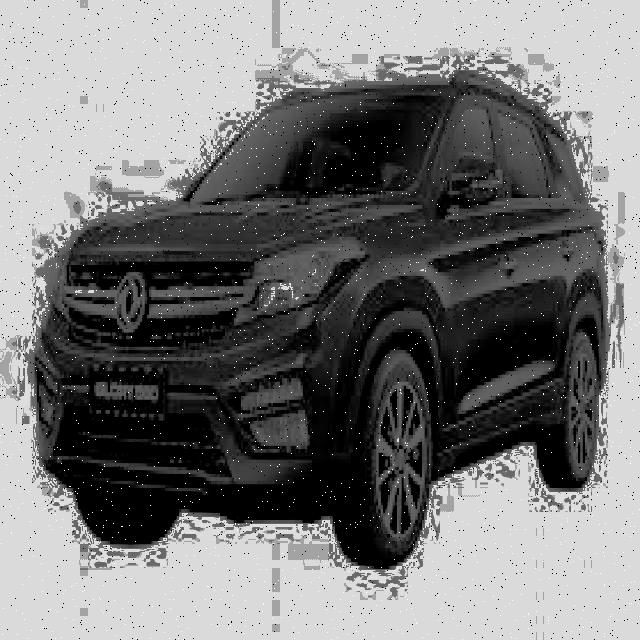Car: (33, 48, 603, 574)
